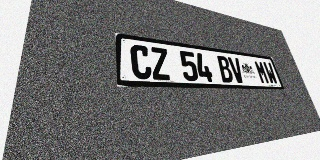4: (194, 52, 214, 82)
5: (179, 50, 200, 81)
B: (216, 55, 235, 83)
C: (130, 44, 152, 80)
M: (253, 60, 270, 84)
V: (228, 57, 246, 83)
W: (262, 61, 279, 84)
Z: (150, 47, 171, 80)
